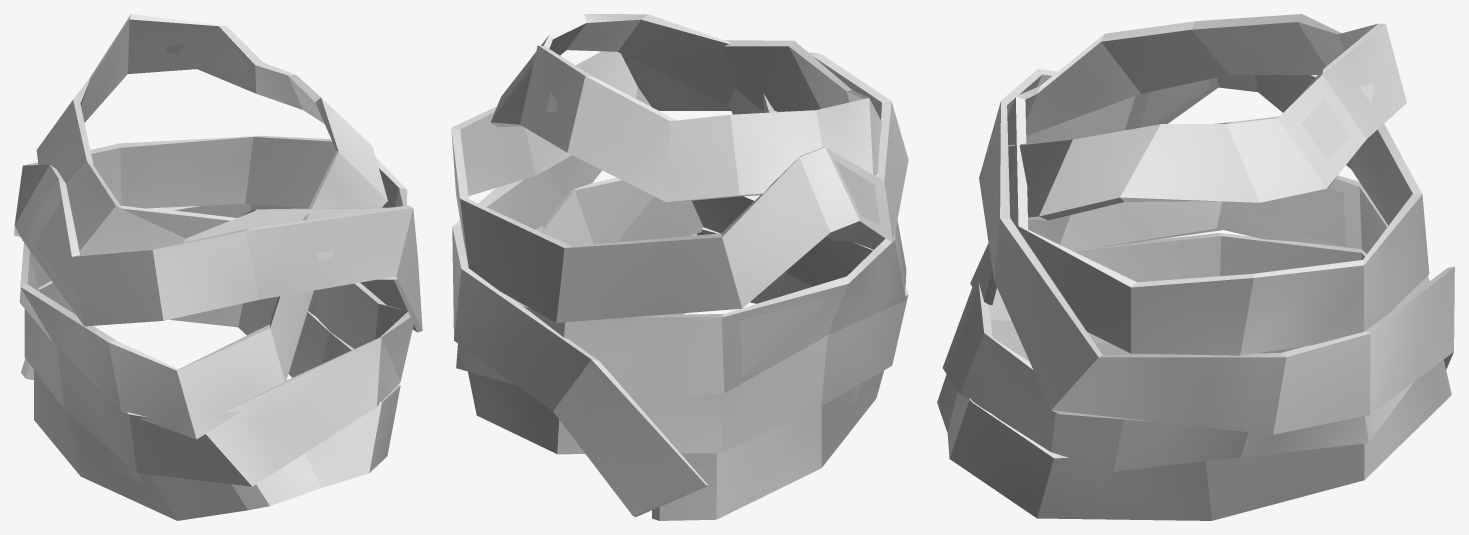
The model's file is mummywrap.fbx.
3 views of the same model, side by side, from view 1: azimuth 30°, elevation 25°; view 2: azimuth 150°, elevation 25°; view 3: azimuth 270°, elevation 25° (orthographic). The views are drawn at different scales.
Parts seen in each view (by area): view 1: mummywrap; view 2: mummywrap; view 3: mummywrap.
Part boxes in pixels (x1,y1,x2,y2): mummywrap: [14, 14, 422, 520]; mummywrap: [451, 14, 908, 520]; mummywrap: [937, 14, 1454, 520].
Bounding box in the file's own units: 28.54 × 28.96 × 30.61.
